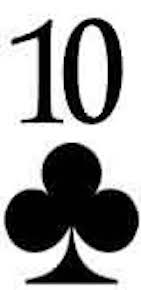TenOfClubs: (1, 7, 140, 287)
